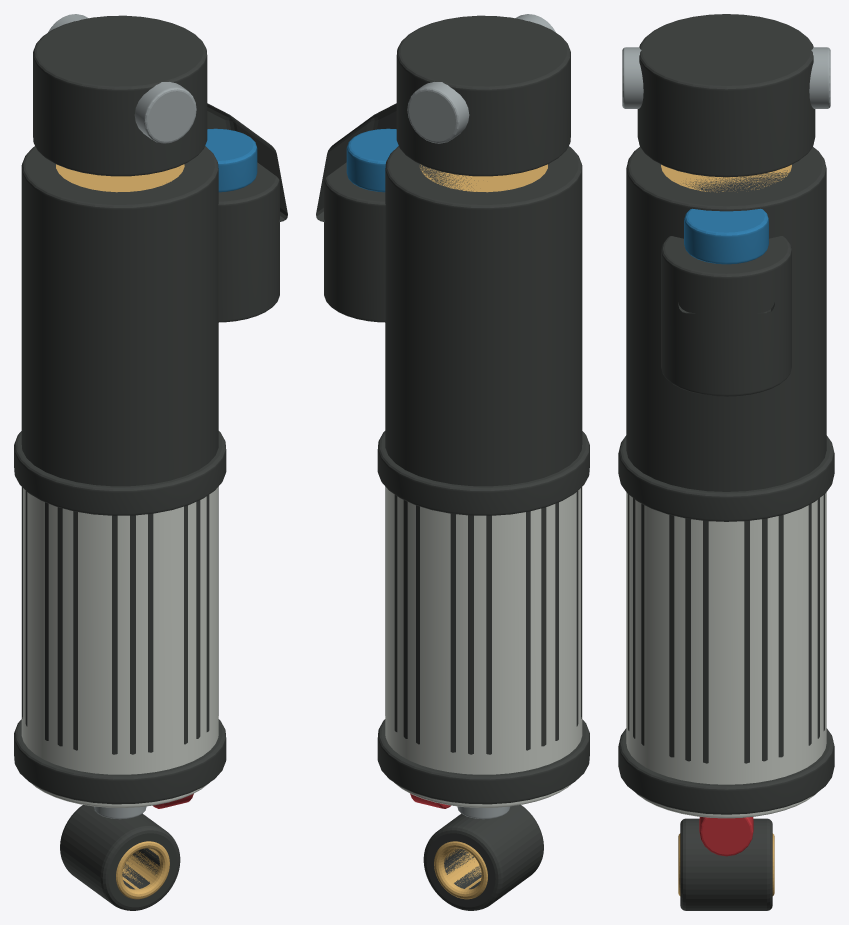
File: fox-float-x2-factory-my26--fccfdc47.glb
3 renders of one model, left to right at view 1: azimuth 30°, elevation 25°; view 2: azimuth 150°, elevation 25°; view 3: azimuth 270°, elevation 25°, orthographic.
Parts seen in each view (by area): view 1: fox-float-x2-factory-my26--fccfdc47__link, fox-float-x2-factory-my26--fccfdc47__frame, fox-float-x2-factory-my26--fccfdc47__stanchions, fox-float-x2-factory-my26--fccfdc47__bolts, fox-float-x2-factory-my26--fccfdc47__adjuster; view 2: fox-float-x2-factory-my26--fccfdc47__link, fox-float-x2-factory-my26--fccfdc47__frame, fox-float-x2-factory-my26--fccfdc47__stanchions, fox-float-x2-factory-my26--fccfdc47__bolts, fox-float-x2-factory-my26--fccfdc47__adjuster; view 3: fox-float-x2-factory-my26--fccfdc47__link, fox-float-x2-factory-my26--fccfdc47__frame, fox-float-x2-factory-my26--fccfdc47__adjuster, fox-float-x2-factory-my26--fccfdc47__bolts, fox-float-x2-factory-my26--fccfdc47__stanchions, fox-float-x2-factory-my26--fccfdc47__rebound.
Boxes of the visible parts, box(x1,y1,x2,y2) form: fox-float-x2-factory-my26--fccfdc47__link: box(14, 15, 287, 910); fox-float-x2-factory-my26--fccfdc47__frame: box(21, 487, 218, 807); fox-float-x2-factory-my26--fccfdc47__stanchions: box(56, 164, 184, 899); fox-float-x2-factory-my26--fccfdc47__bolts: box(48, 14, 196, 819); fox-float-x2-factory-my26--fccfdc47__adjuster: box(205, 128, 257, 192); fox-float-x2-factory-my26--fccfdc47__link: box(316, 15, 589, 910); fox-float-x2-factory-my26--fccfdc47__frame: box(385, 487, 582, 807); fox-float-x2-factory-my26--fccfdc47__stanchions: box(420, 164, 547, 899); fox-float-x2-factory-my26--fccfdc47__bolts: box(407, 14, 555, 819); fox-float-x2-factory-my26--fccfdc47__adjuster: box(346, 128, 398, 192); fox-float-x2-factory-my26--fccfdc47__link: box(618, 14, 834, 910); fox-float-x2-factory-my26--fccfdc47__frame: box(626, 492, 826, 818); fox-float-x2-factory-my26--fccfdc47__adjuster: box(684, 208, 768, 264); fox-float-x2-factory-my26--fccfdc47__bolts: box(622, 47, 830, 816); fox-float-x2-factory-my26--fccfdc47__stanchions: box(661, 164, 791, 895); fox-float-x2-factory-my26--fccfdc47__rebound: box(699, 817, 753, 856).
Bounding box in the file's own units: 0.074 × 0.245 × 0.056.
